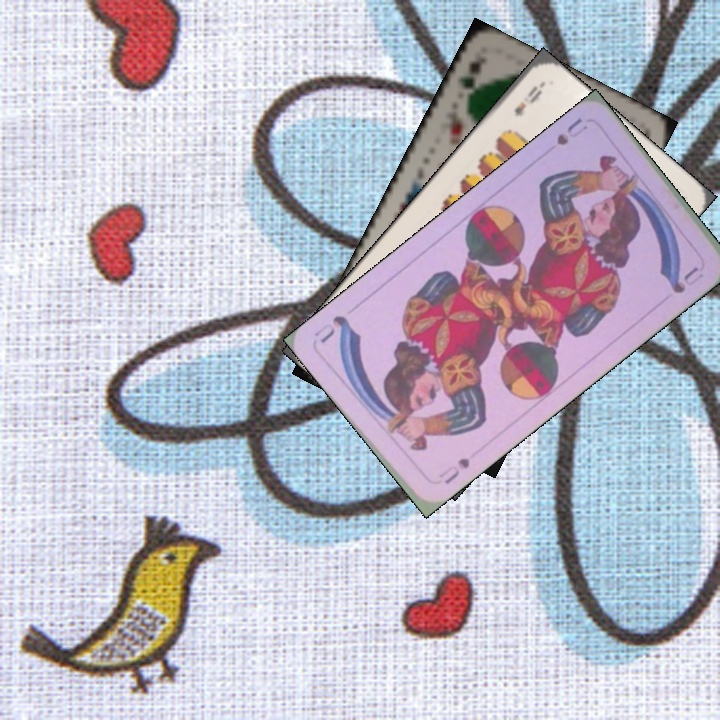E9: (510, 79, 546, 120)
GK: (457, 47, 491, 107)
SU: (550, 113, 591, 152), (434, 453, 473, 487)
